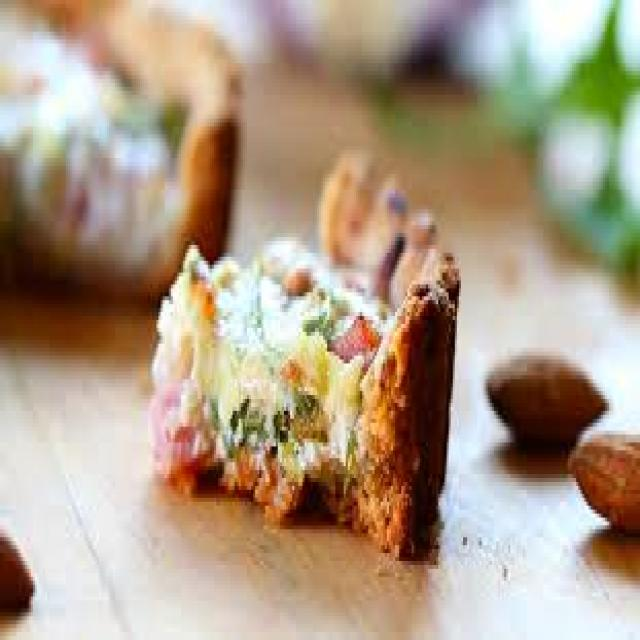organic waste: (148, 134, 459, 561), (0, 0, 237, 308), (482, 348, 607, 442), (564, 427, 638, 533), (0, 530, 33, 612)
